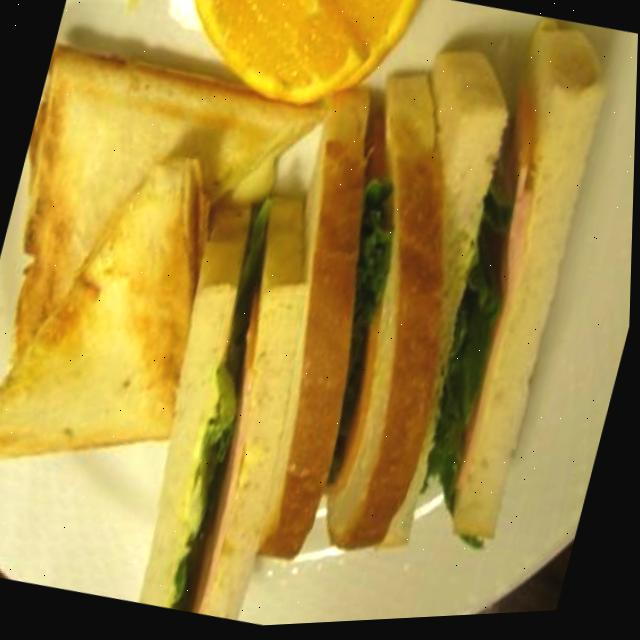三明治: (0, 14, 601, 630)
